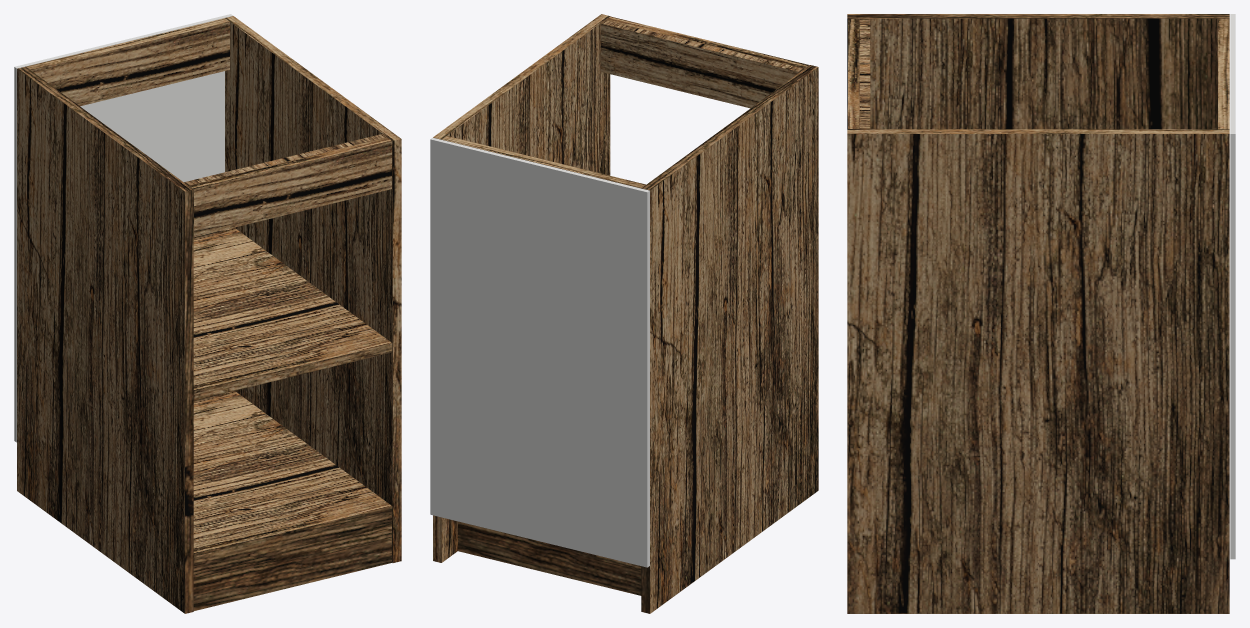
The model's file is modul3group.gltf.
The picture shows the model from 3 angles, left to right: view 1: azimuth 30°, elevation 25°; view 2: azimuth 150°, elevation 25°; view 3: azimuth 270°, elevation 25°; orthographic projection. The views are drawn at different scales.
Visible parts, largest first — view 1: 29926, 29924, 29750, Root Node; view 2: 29926, 29750, 29924, Root Node; view 3: 29926, 29750, 29924, Root Node.
Part boxes in pixels (box(x1,y1,x2,y2)): 29926: box(17, 16, 401, 613); 29924: box(26, 18, 392, 610); 29750: box(14, 14, 232, 442); Root Node: box(189, 137, 391, 236); 29926: box(433, 14, 818, 613); 29750: box(430, 137, 649, 567); 29924: box(441, 20, 804, 595); Root Node: box(606, 16, 809, 68); 29926: box(847, 14, 1229, 613); 29750: box(1230, 14, 1235, 559); 29924: box(859, 18, 1229, 129); Root Node: box(848, 19, 858, 129).
Bounding box in the file's own units: 0.424 × 0.79 × 0.579.
96 materials, 84 textured.
